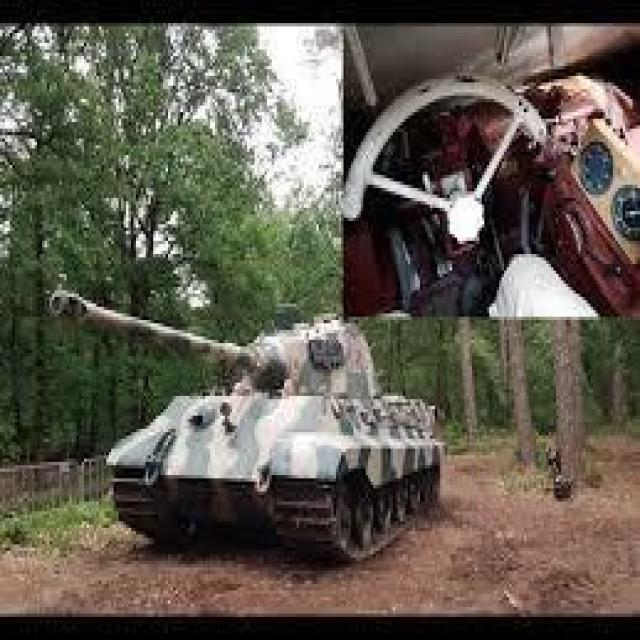Tanks: (48, 285, 456, 566)
